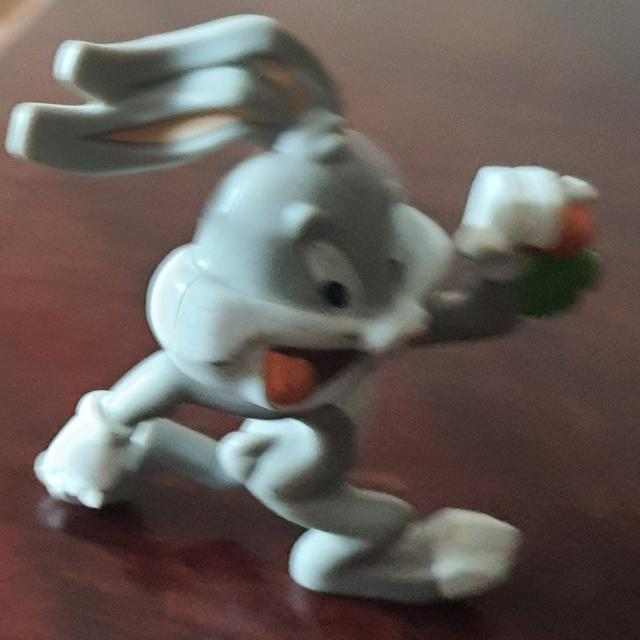Rabbit: (4, 13, 603, 605)
